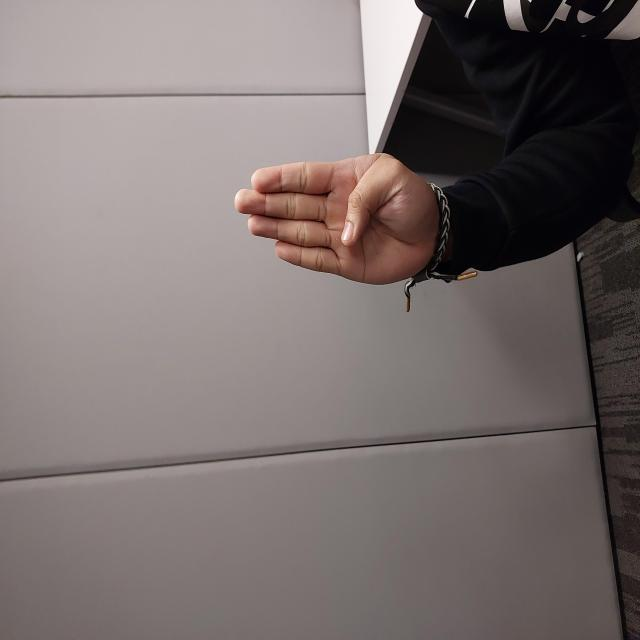B: (355, 234, 490, 441)
